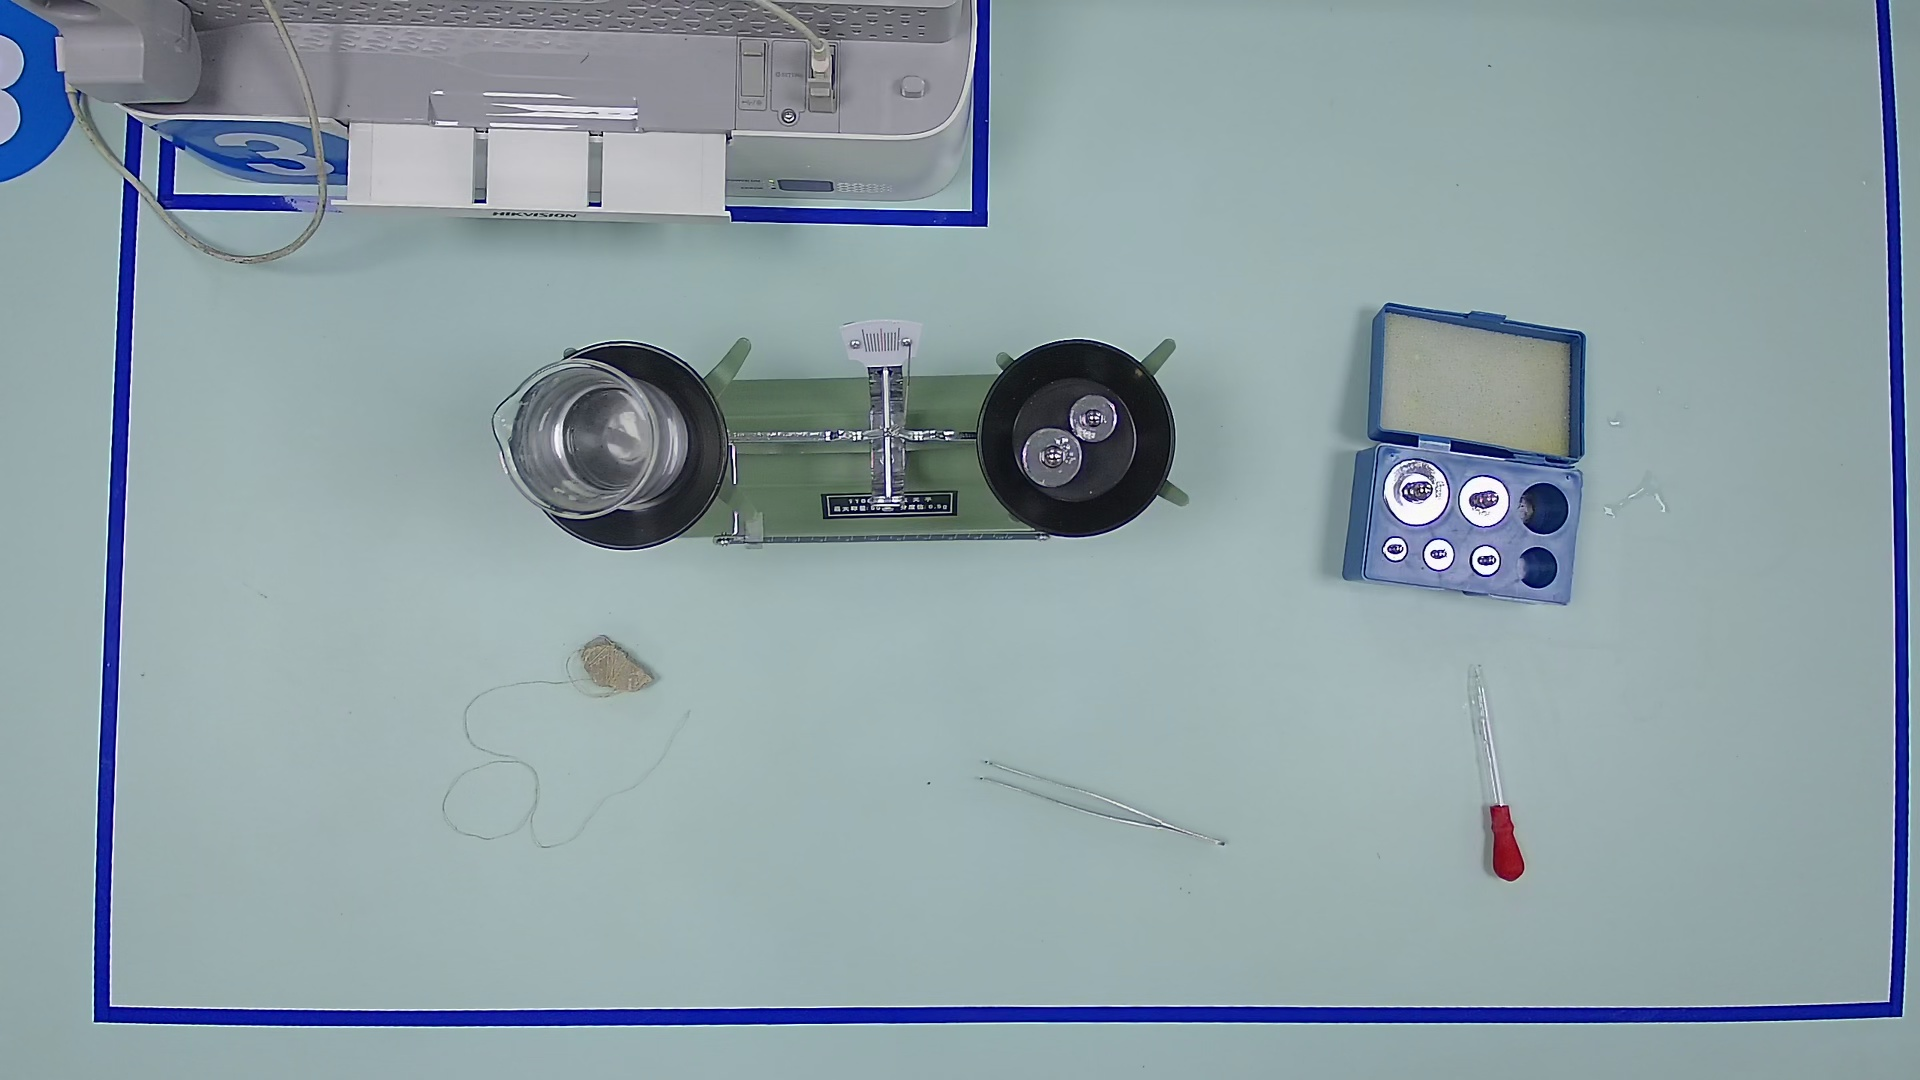bei: (483, 349, 692, 530)
diguan: (1443, 651, 1540, 889)
diguantou: (1478, 790, 1535, 889)
fama: (1374, 448, 1456, 533), (1018, 425, 1085, 492), (1453, 469, 1518, 535), (1065, 392, 1120, 446), (1418, 534, 1458, 578), (1466, 542, 1505, 584), (1379, 531, 1414, 571)
gan: (711, 501, 1036, 574)
he: (1298, 421, 1584, 636)
niezi: (975, 762, 1224, 849)
pointer: (843, 318, 919, 365)
shi: (576, 630, 659, 708)
tuo: (960, 319, 1191, 560), (520, 327, 748, 566)
you: (735, 506, 771, 554)
